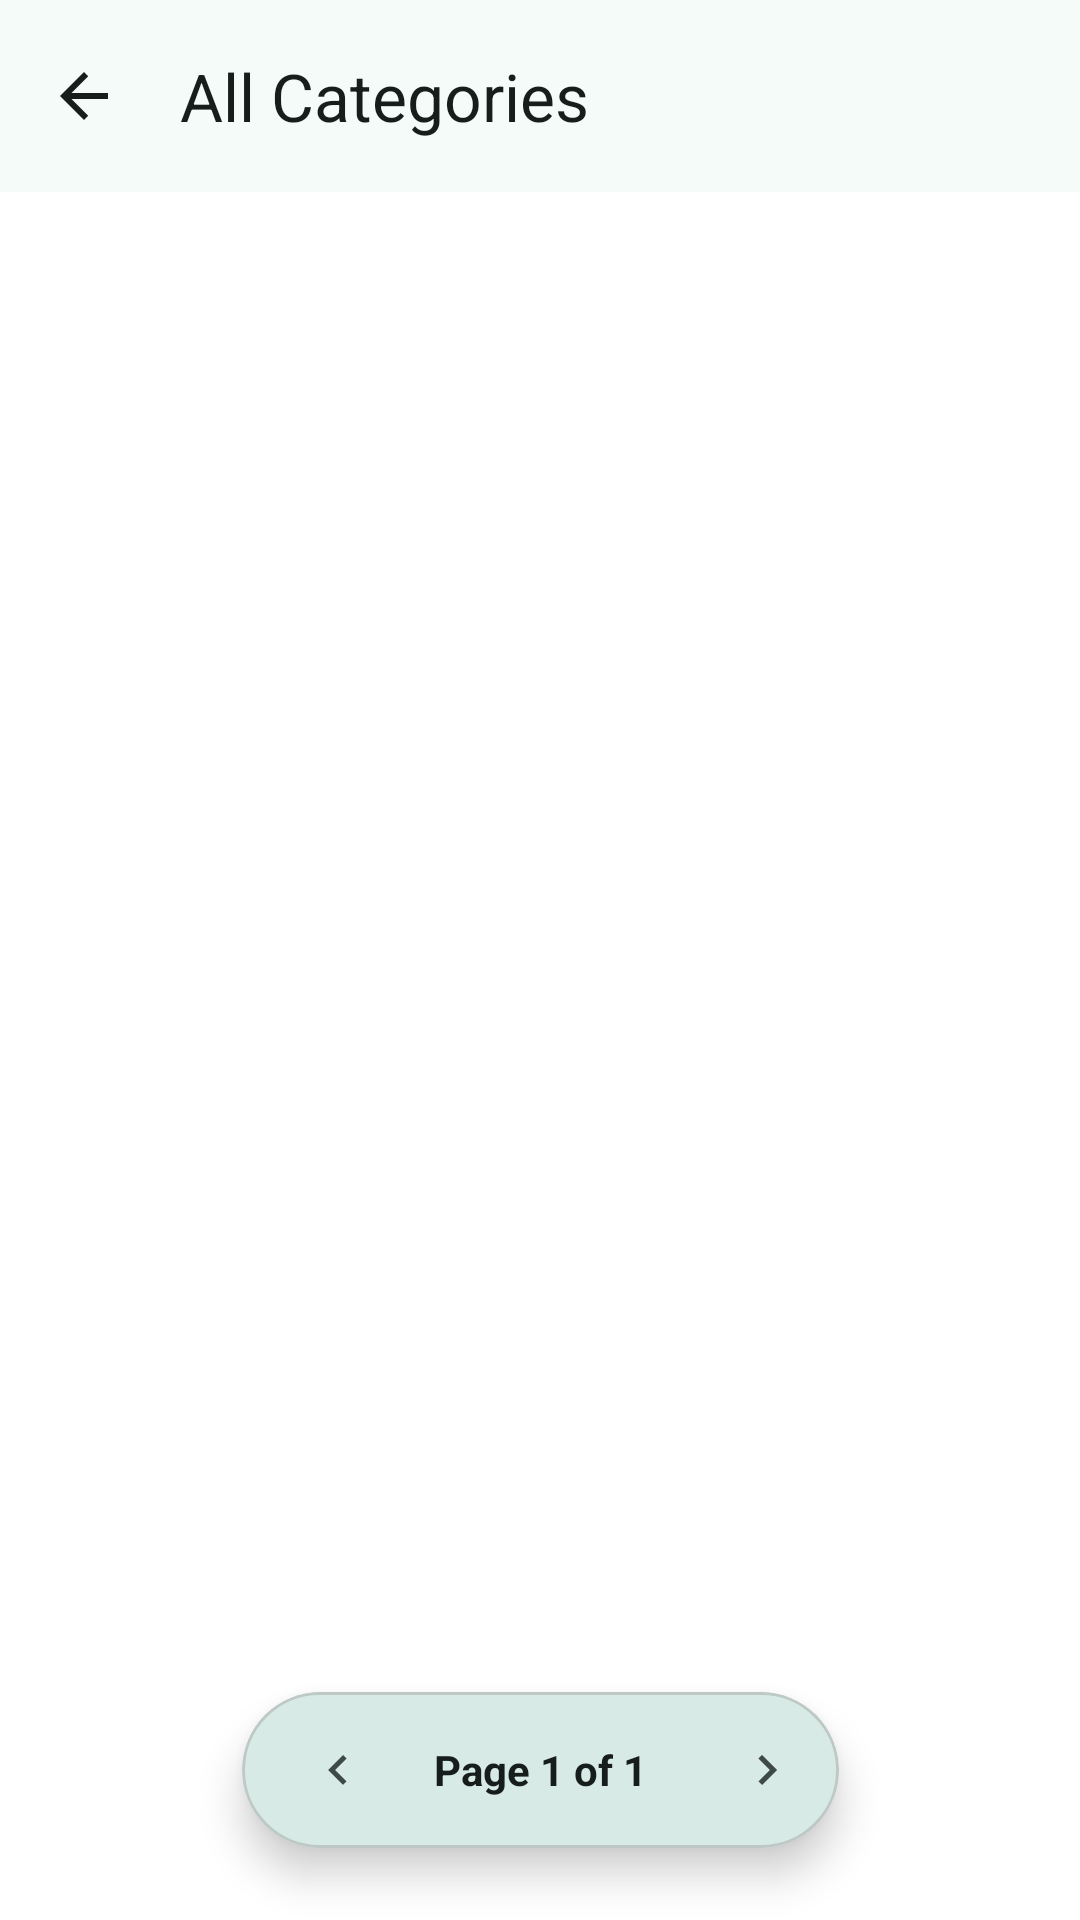

Icon bounding boxes for this 1080 x 1920 phone screenshot, format region(x1, y1, x2, y2):
chevron left: region(328, 1755, 347, 1785)
chevron right: region(758, 1755, 777, 1785)
